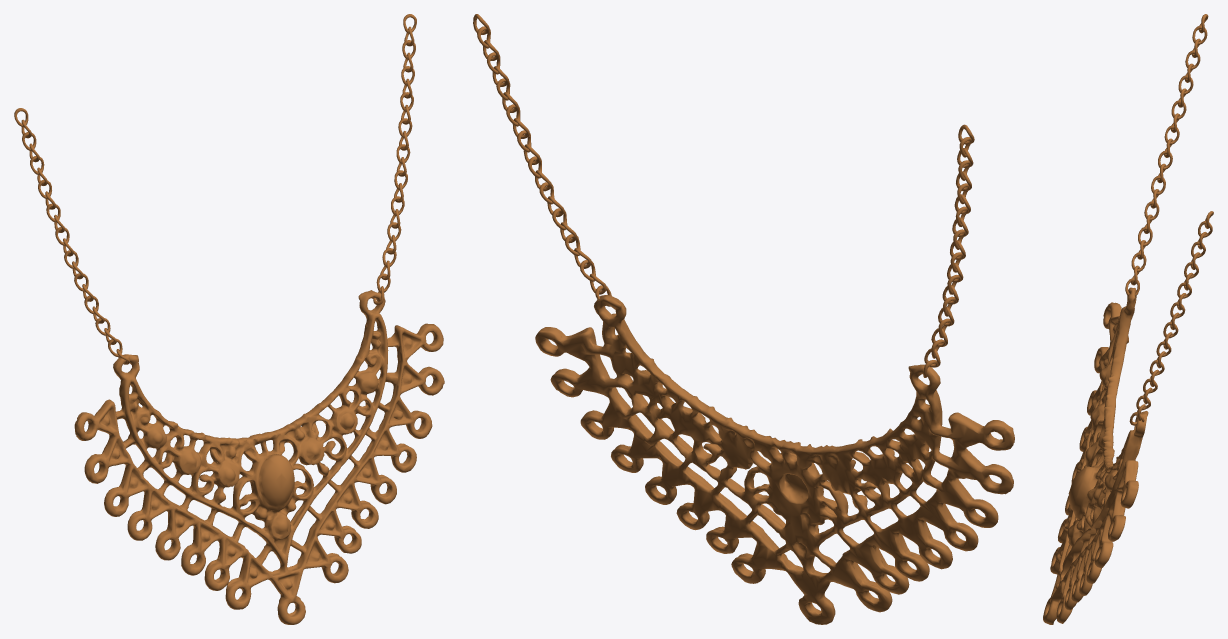
The picture shows the model from 3 angles, left to right: view 1: azimuth 30°, elevation 25°; view 2: azimuth 150°, elevation 25°; view 3: azimuth 270°, elevation 25°; orthographic projection. The views are drawn at different scales.
Parts seen in each view (by area): view 1: 02.005; view 2: 02.005; view 3: 02.005.
Part boxes in pixels (box(x1,y1,x2,y2)): 02.005: box(14, 14, 444, 624); 02.005: box(473, 14, 1014, 624); 02.005: box(1043, 14, 1213, 624).
Size of the model in its own units: 1.51 by 1.81 by 0.5484.
1 material, 1 textured.
